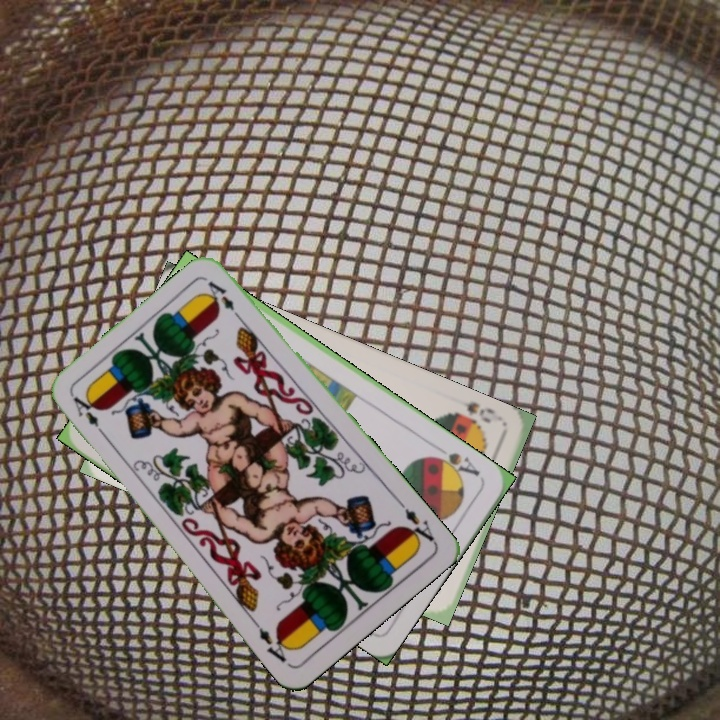EA: (394, 496, 439, 548), (69, 392, 110, 442)
SA: (427, 442, 483, 482)
SO: (445, 393, 499, 429)
